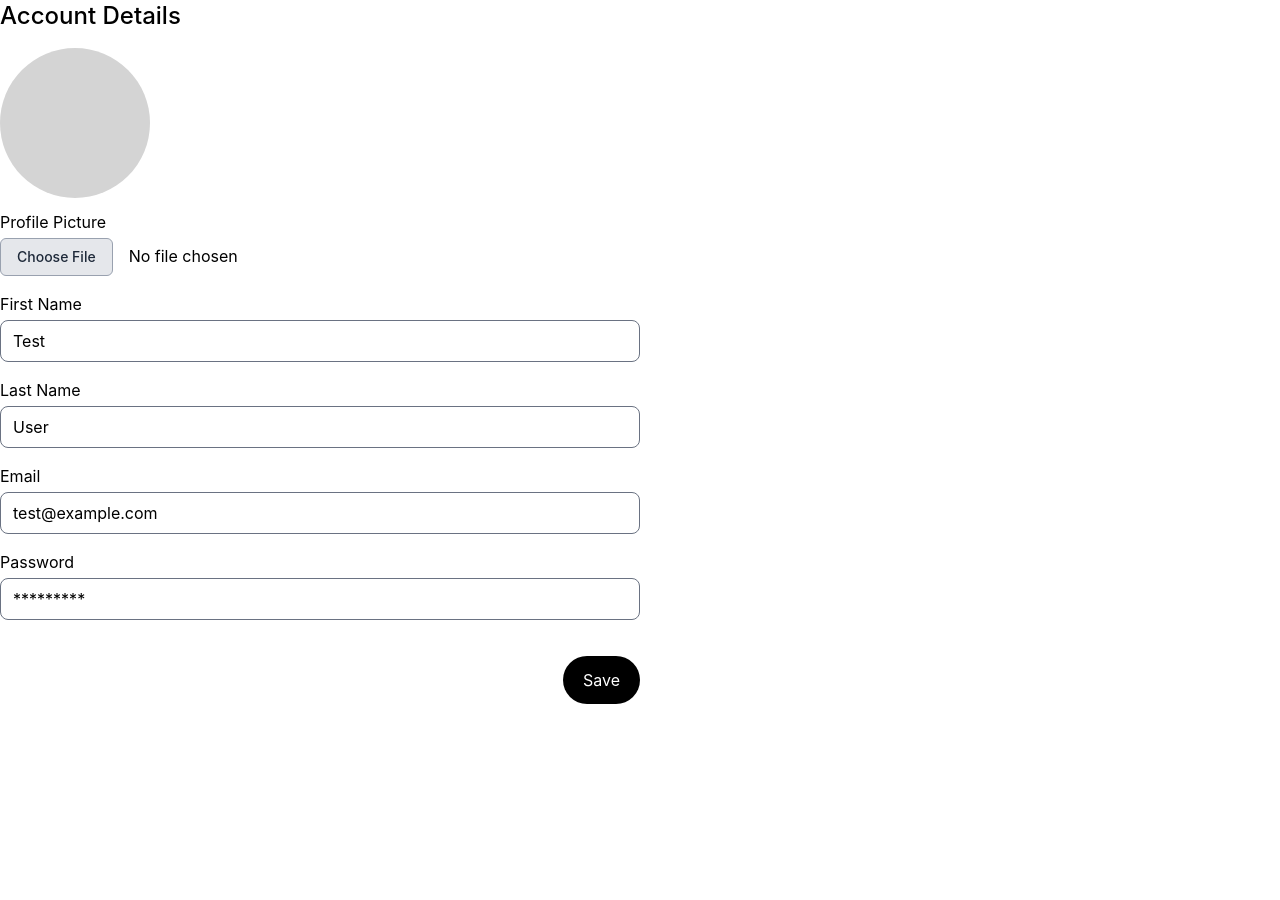
Test: opens the password modal when the password field is clicked
The image size is (1280, 900).
Click the button labelled "Password": (320, 599) [0, 578, 640, 620]
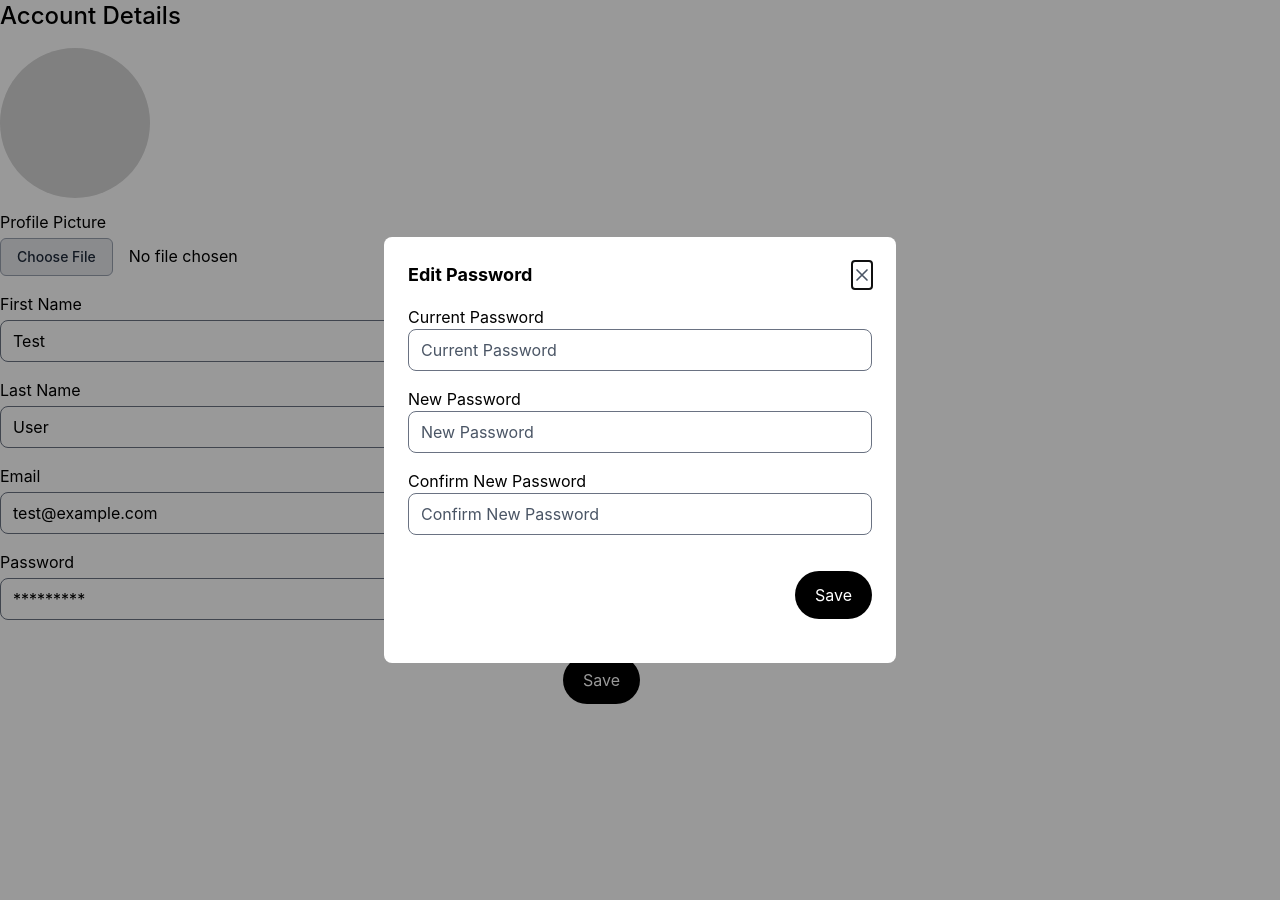
Check: the dialog "Edit Password" is shown, box [384, 237, 896, 663]
